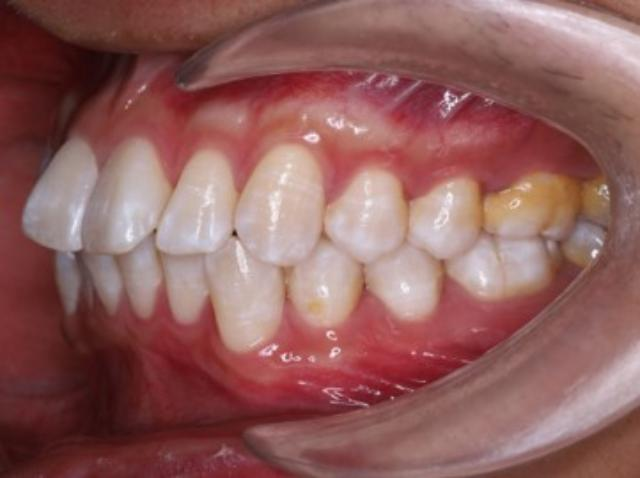canine class II 1/4: (205, 126, 368, 370)
molar class III 1/2: (442, 156, 590, 308)
